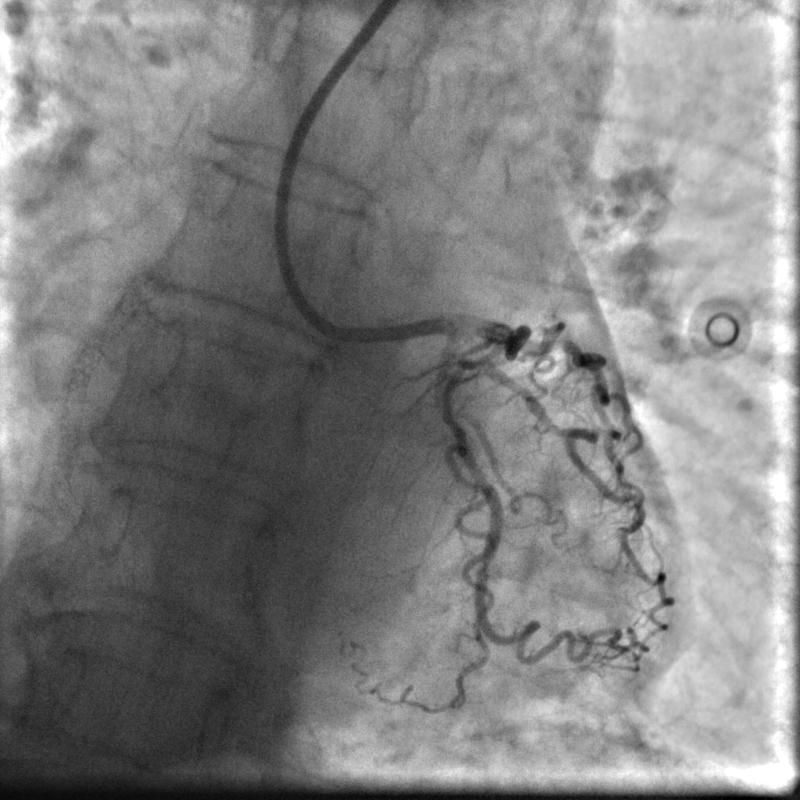Stenosis: (501, 321, 525, 357)
